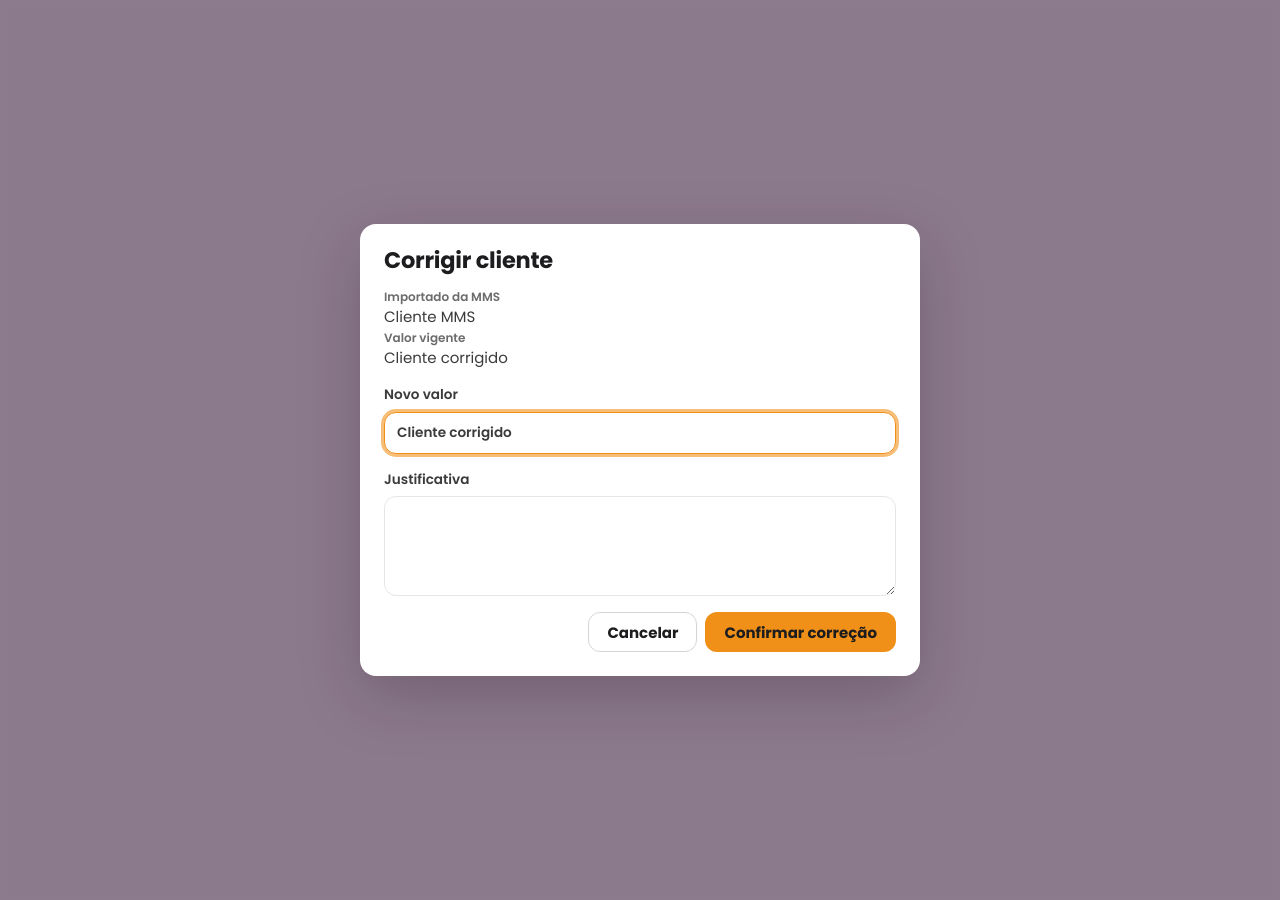
Test: assistance correction dialog › preserves typed text after a concurrent conflict
Step 1. Replace the text in the field labelled "Novo valor" with "Meu rascunho" → (640, 433), box left=384, top=412, right=896, bottom=454
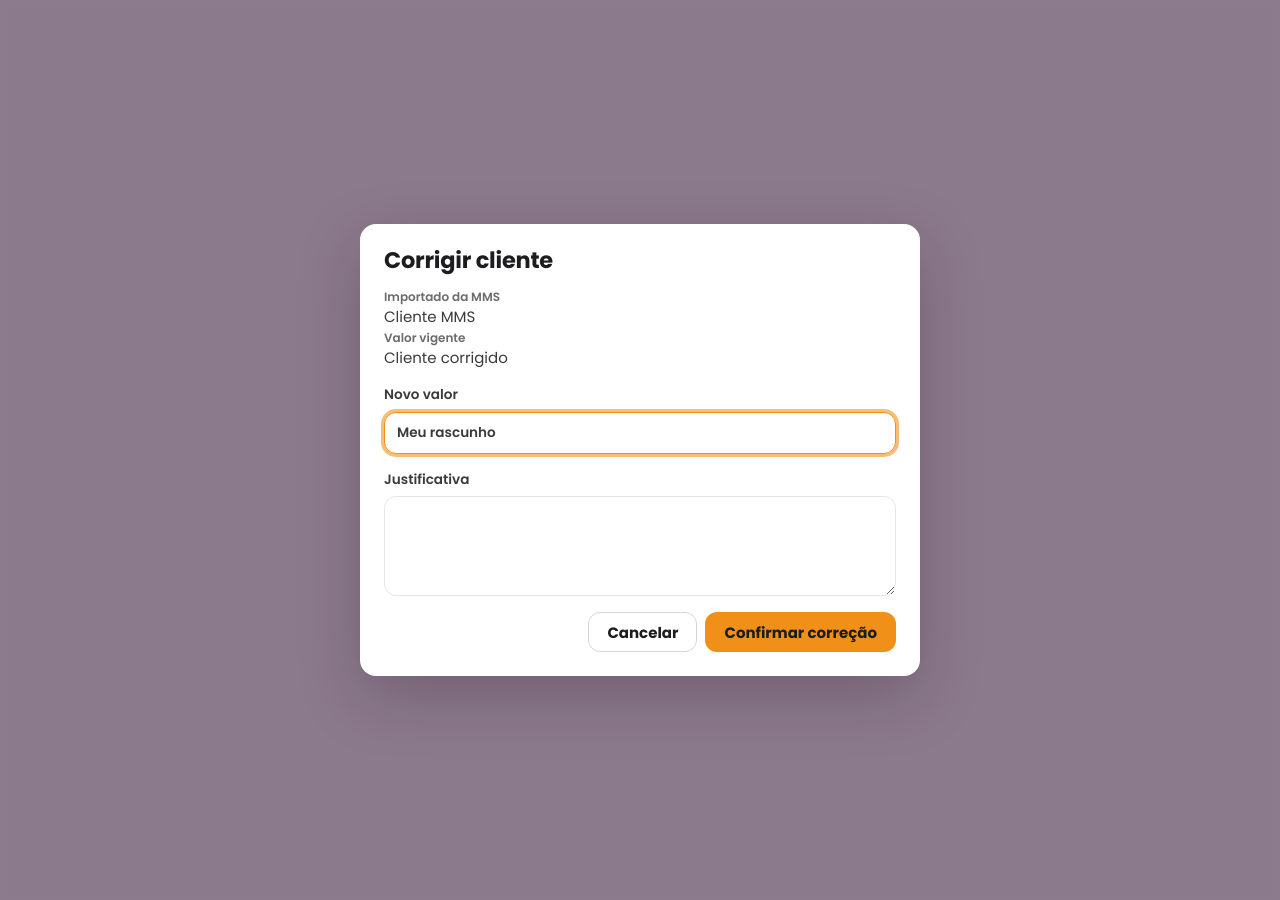
Step 2. Type "Confirmado" into the text box labelled "Justificativa" → (640, 546), box left=384, top=496, right=896, bottom=596
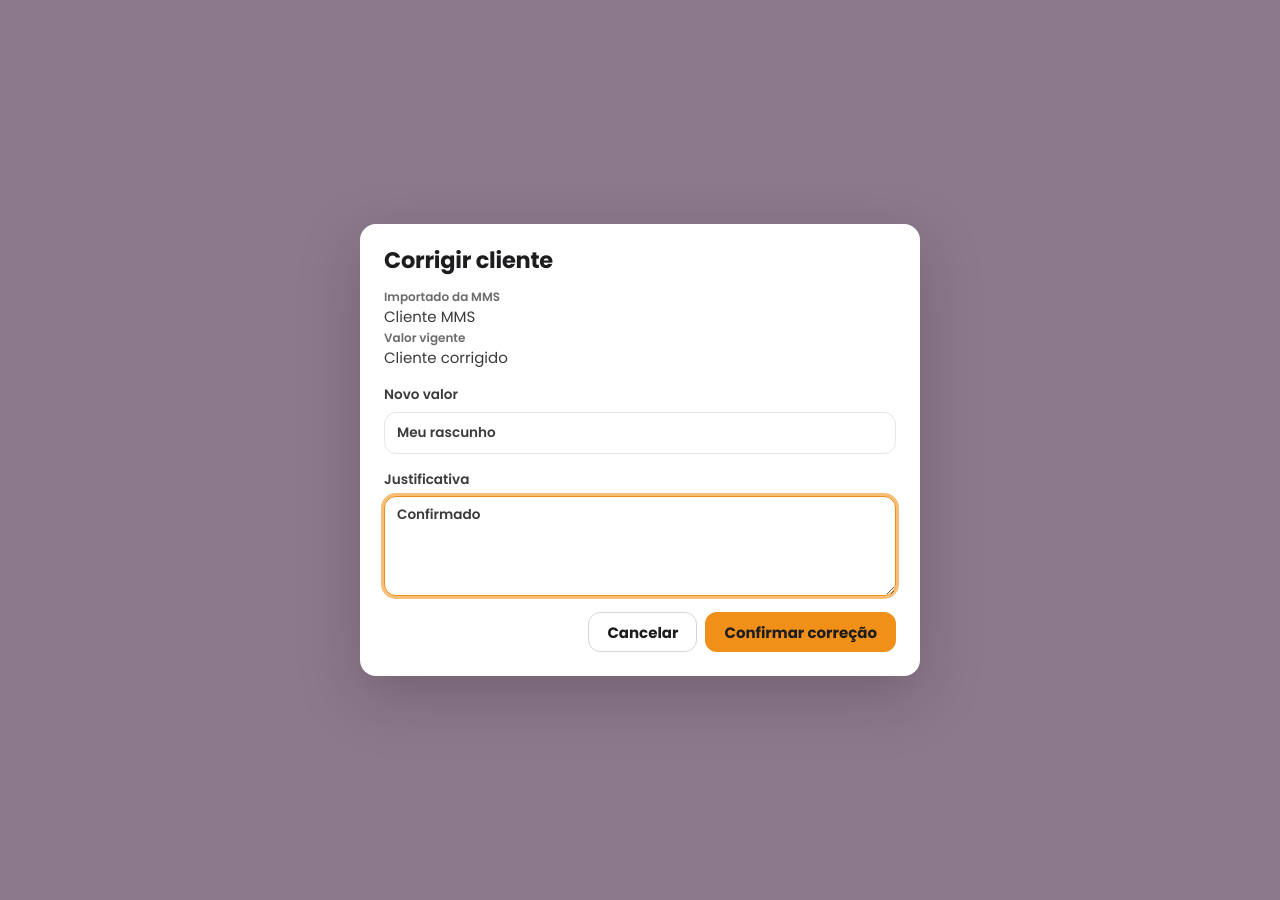
Step 3. Click the button "Confirmar correção" → (801, 632), box left=706, top=612, right=896, bottom=652
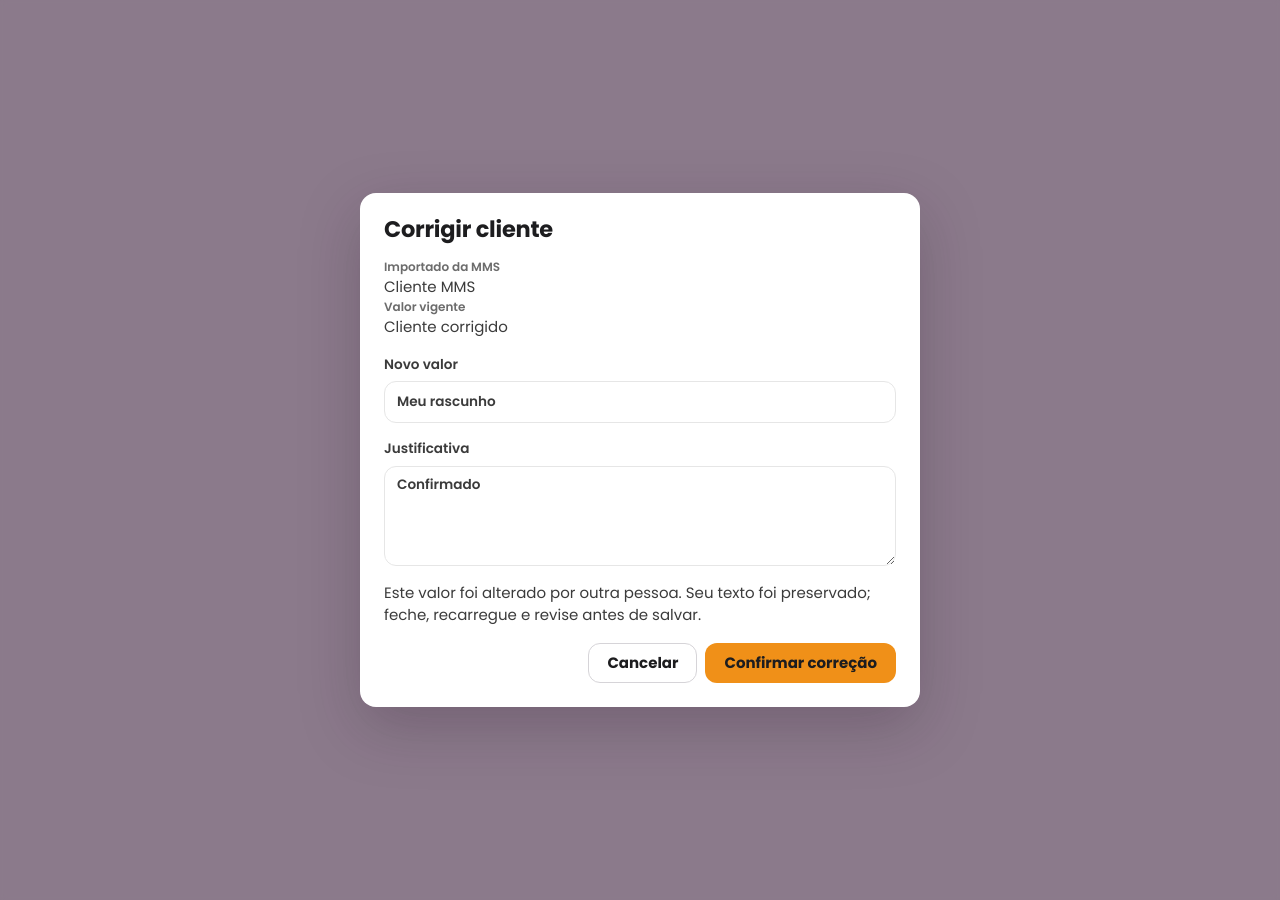
expect the message shows "outra pessoa": met, box left=384, top=582, right=871, bottom=625
